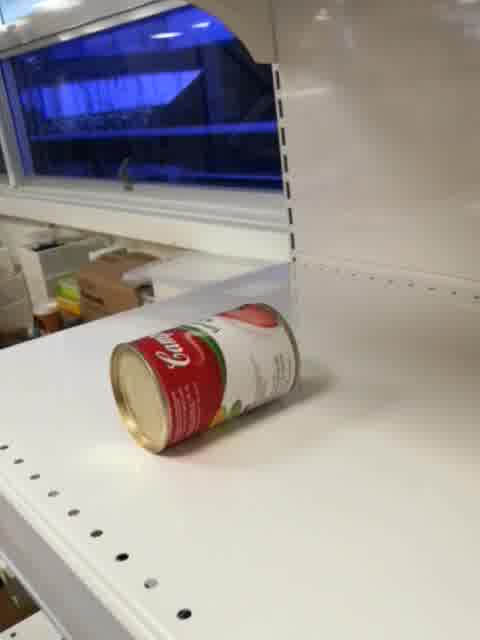tomatosoup: (106, 301, 300, 456)
